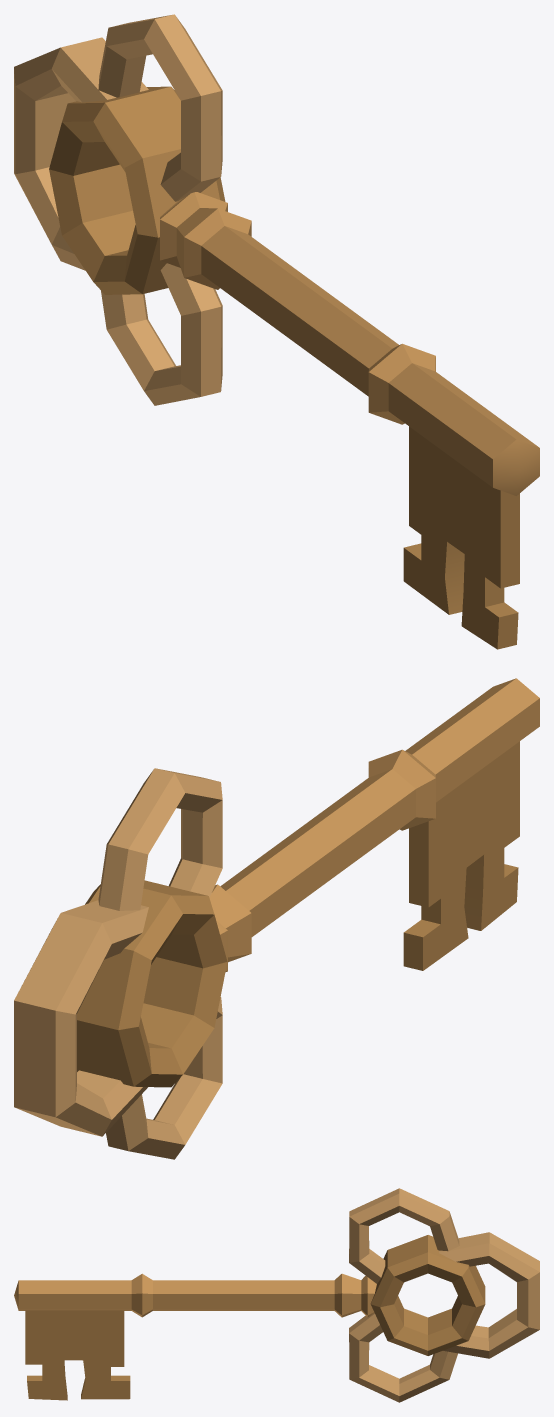
Rendered from SM_Prop_Key_01.fbx.
The picture shows the model from 3 angles, top to bottom: view 1: azimuth 30°, elevation 25°; view 2: azimuth 150°, elevation 25°; view 3: azimuth 270°, elevation 25°; orthographic projection. The views are drawn at different scales.
Visible parts, largest first — view 1: SM_Prop_Key_01; view 2: SM_Prop_Key_01; view 3: SM_Prop_Key_01.
Part boxes in pixels (x1,y1,x2,y2): SM_Prop_Key_01: (14,14,539,649); SM_Prop_Key_01: (14,678,539,1159); SM_Prop_Key_01: (14,1188,539,1402).
Bounding box in the file's own units: 3.05 × 12.54 × 28.57.
